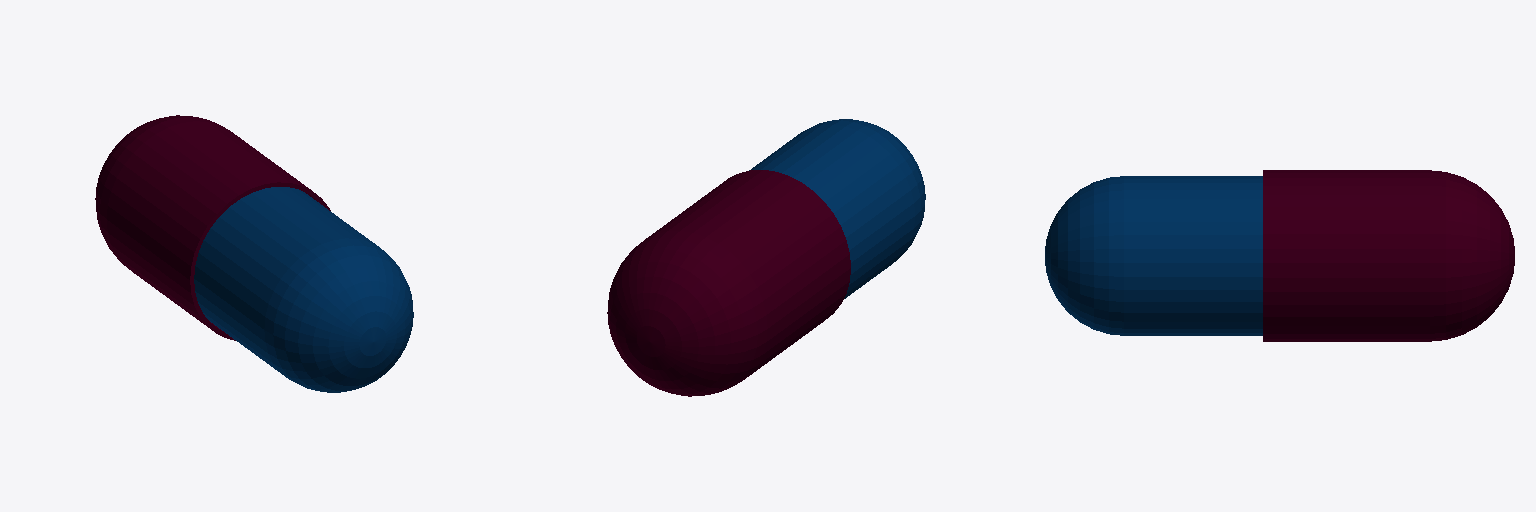
3 views of the same model, side by side, from view 1: azimuth 30°, elevation 25°; view 2: azimuth 150°, elevation 25°; view 3: azimuth 270°, elevation 25° (orthographic).
Visible parts, largest first — view 1: CAP2_Mesh.002, CAP1_Mesh; view 2: CAP1_Mesh, CAP2_Mesh.002; view 3: CAP1_Mesh, CAP2_Mesh.002.
Boxes of the visible parts, x1,y1,x2,y2 form: CAP2_Mesh.002: [194, 187, 413, 392]; CAP1_Mesh: [95, 115, 330, 340]; CAP1_Mesh: [607, 170, 850, 396]; CAP2_Mesh.002: [749, 119, 925, 298]; CAP1_Mesh: [1263, 170, 1514, 341]; CAP2_Mesh.002: [1045, 176, 1262, 335].
Bounding box in the file's own units: 1.09 × 1.09 × 2.99.